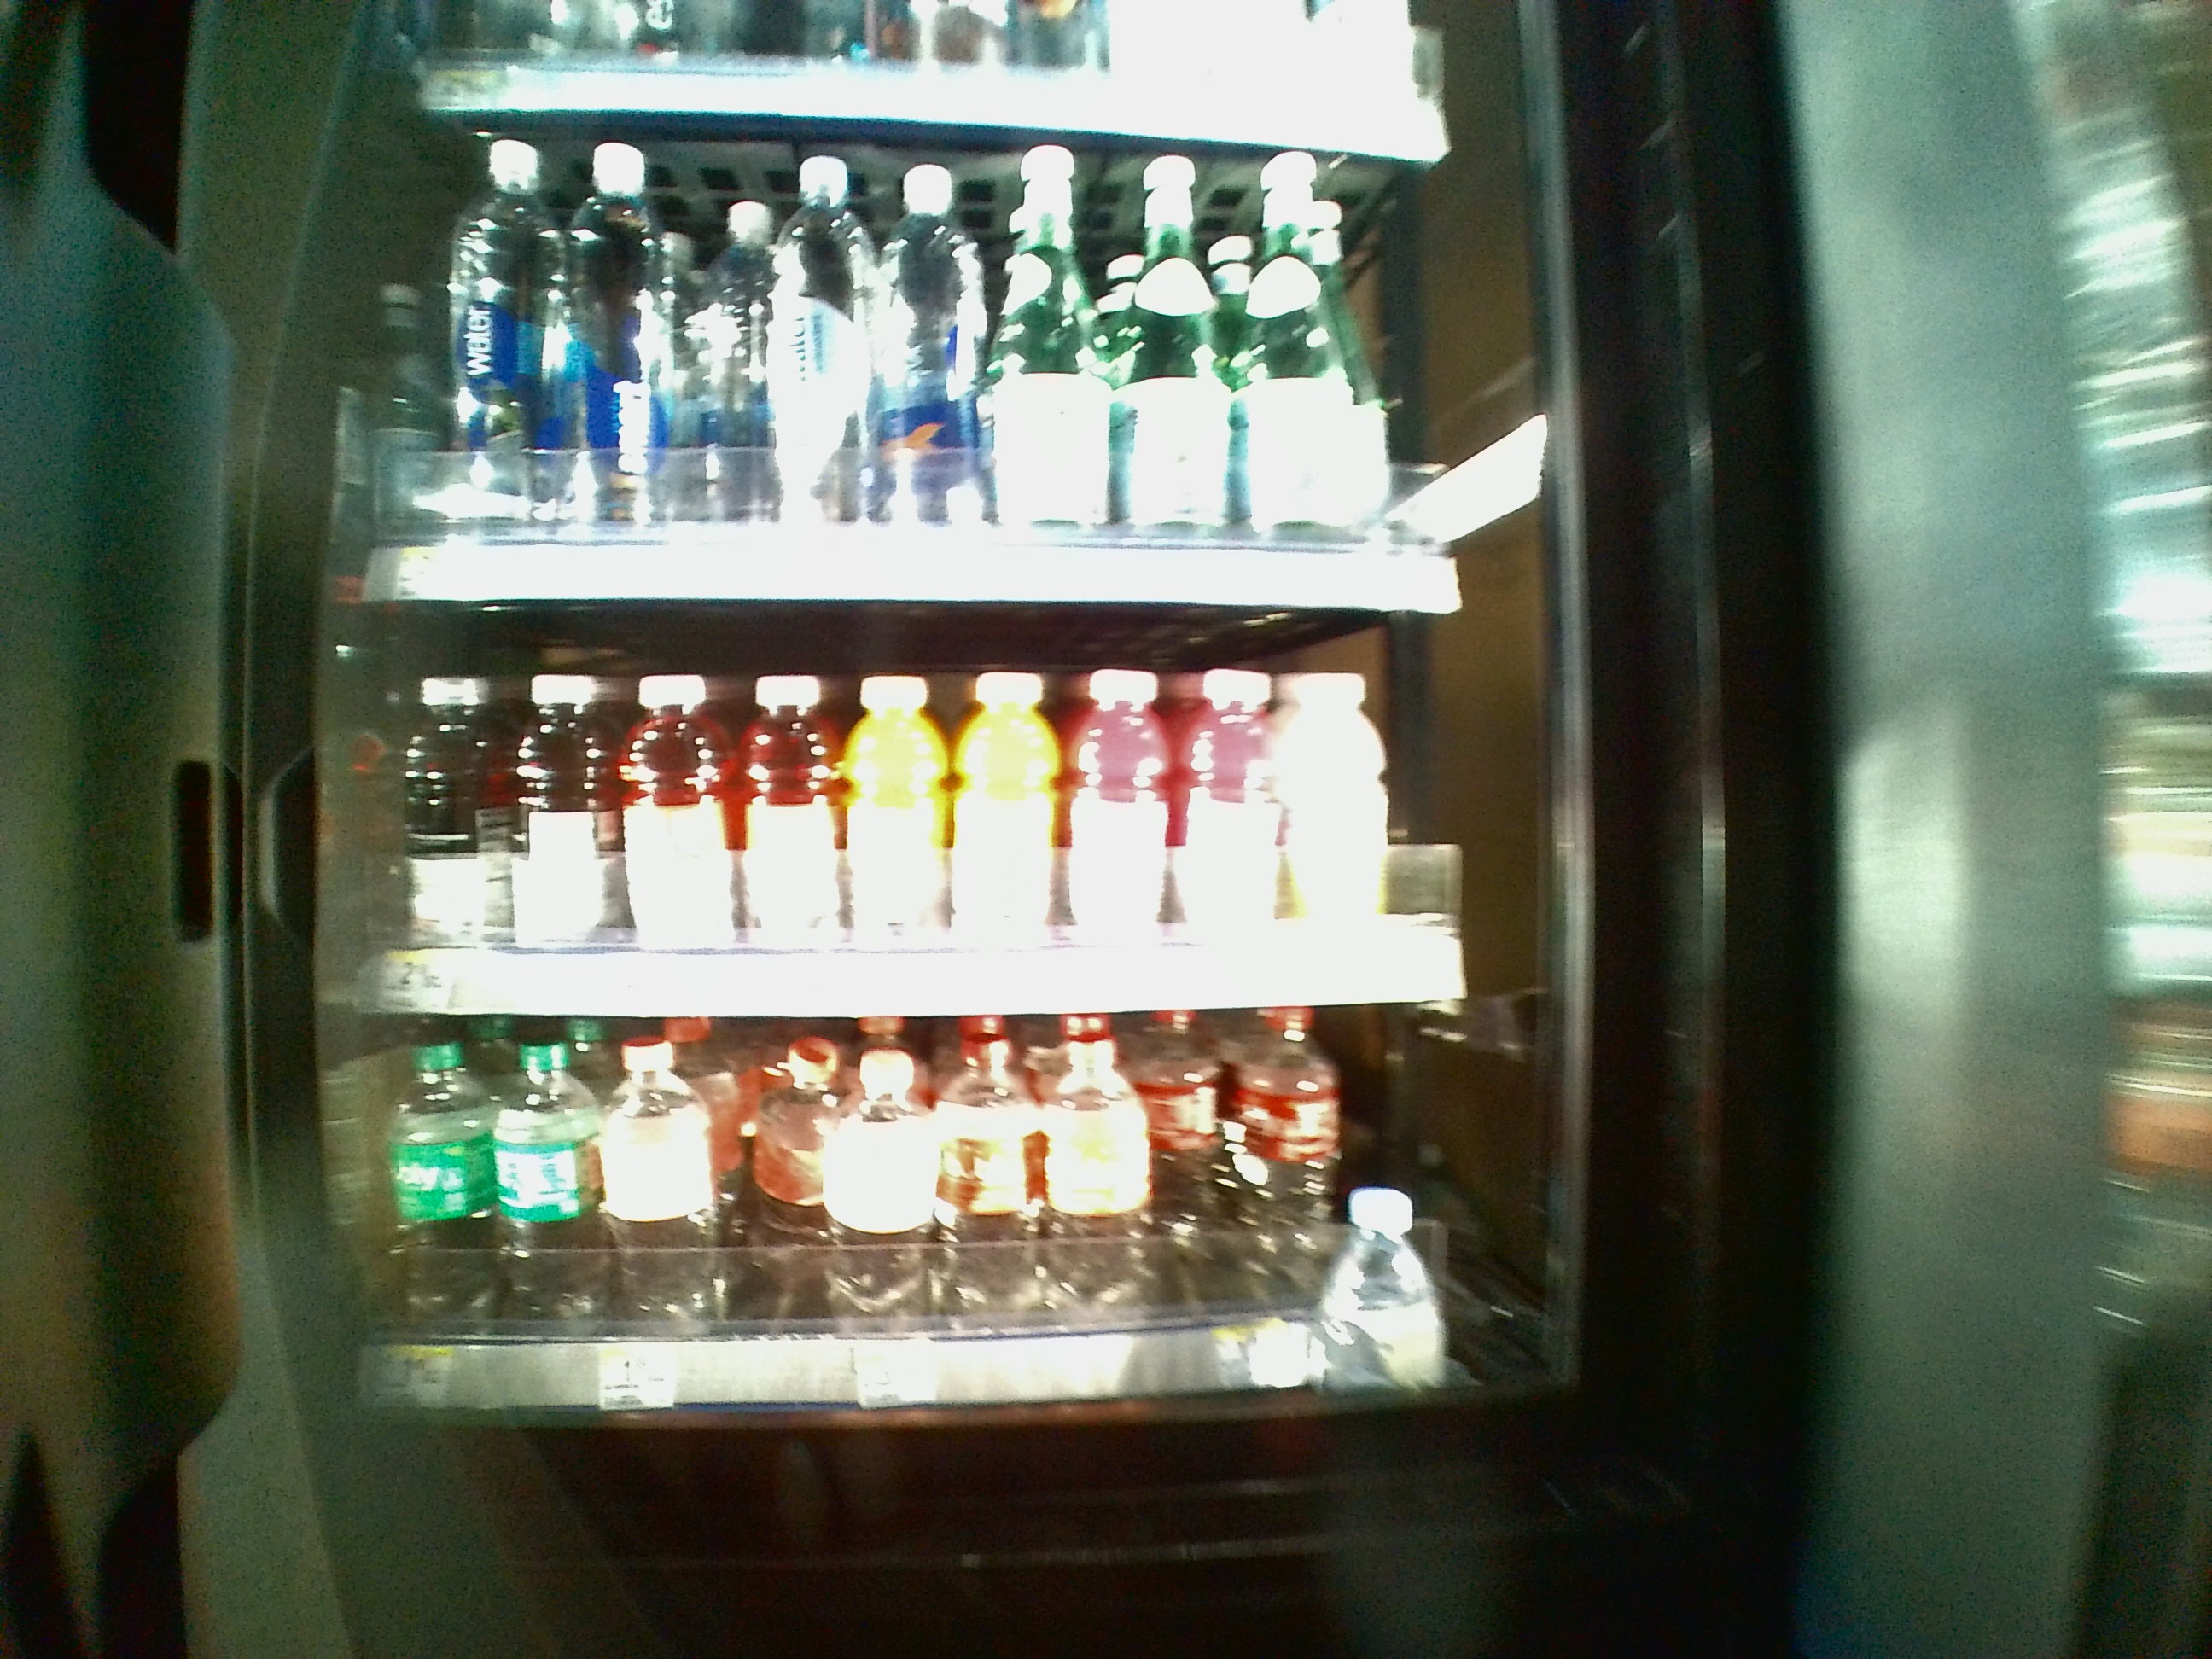Shelf: (314, 112, 1470, 617), (308, 612, 1479, 1023), (307, 1019, 1491, 1419)
